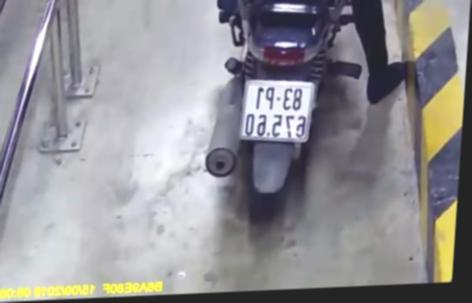License_Plate: (234, 75, 320, 147)
